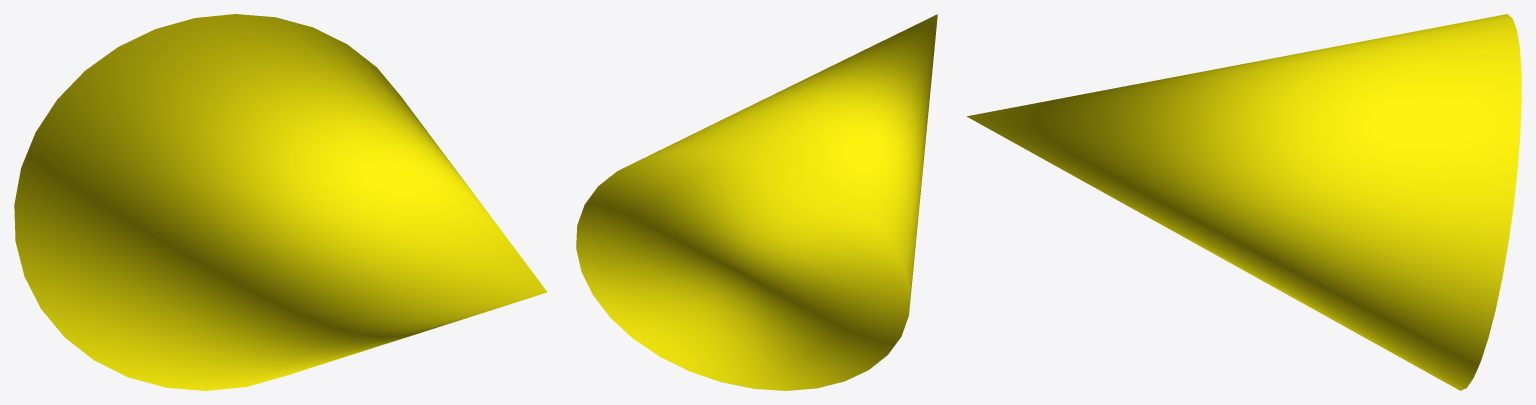
File: zone3-rhino-yellow.gltf
The picture shows the model from 3 angles, left to right: view 1: azimuth 30°, elevation 25°; view 2: azimuth 150°, elevation 25°; view 3: azimuth 270°, elevation 25°; orthographic projection. The views are drawn at different scales.
Visible parts, largest first — view 1: Corne; view 2: Corne; view 3: Corne.
Part boxes in pixels (bbox=[...]): Corne: bbox=[14, 14, 547, 390]; Corne: bbox=[576, 14, 937, 390]; Corne: bbox=[967, 14, 1521, 390].
Size of the model in its own units: 0.7107 by 0.5485 by 0.9062.
